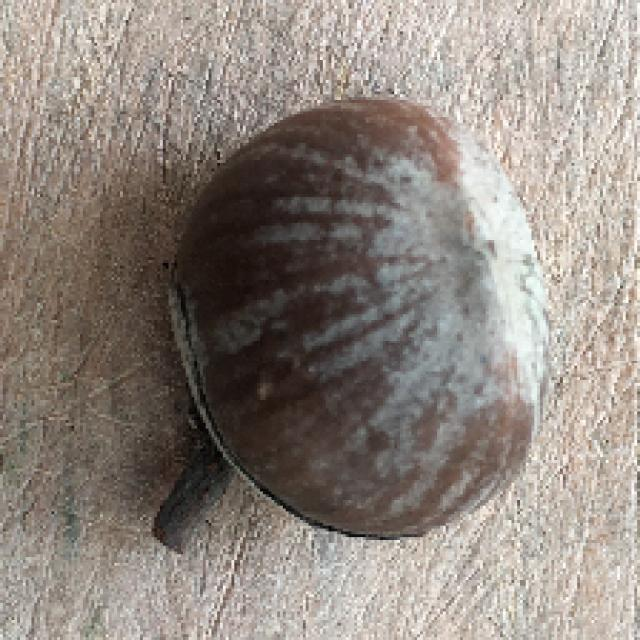damagedHazelnut: (140, 86, 560, 549)
